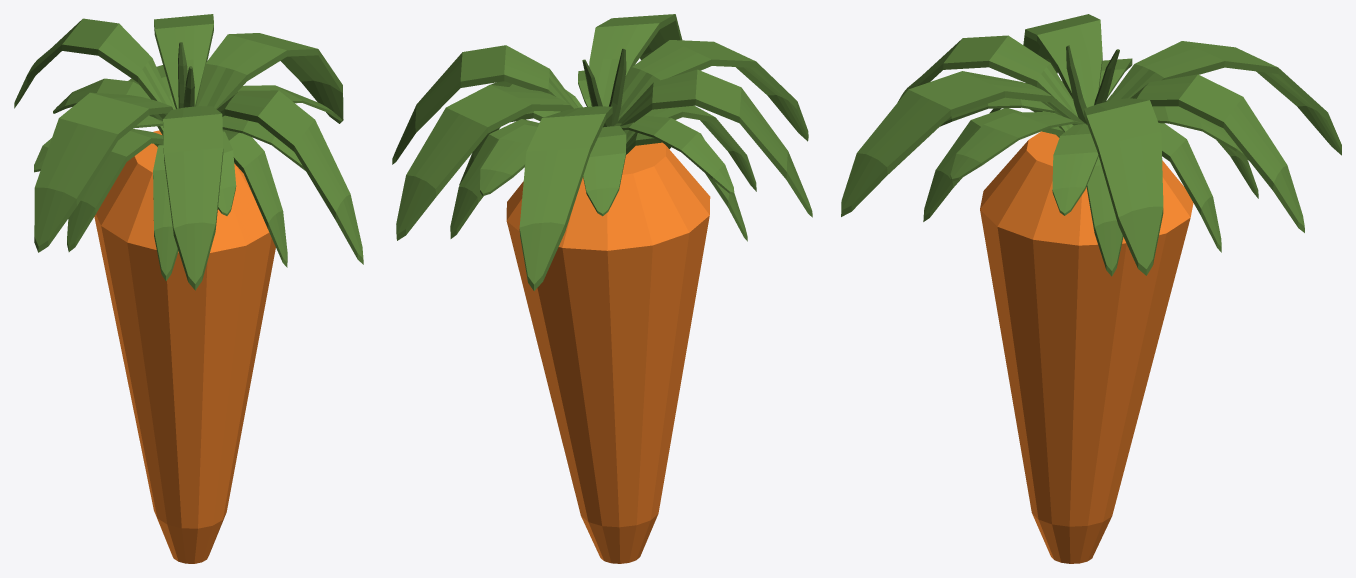
The model's file is carrot.fbx.
The picture shows the model from 3 angles, left to right: view 1: azimuth 30°, elevation 25°; view 2: azimuth 150°, elevation 25°; view 3: azimuth 270°, elevation 25°; orthographic projection. The views are drawn at different scales.
Visible parts, largest first — view 1: Cylinder.018; view 2: Cylinder.018; view 3: Cylinder.018.
Boxes of the visible parts, x1,y1,x2,y2 form: Cylinder.018: (14,14,363,563); Cylinder.018: (392,14,812,563); Cylinder.018: (841,14,1341,563).
Size of the model in its own units: 50.93 by 67.77 by 59.99.
